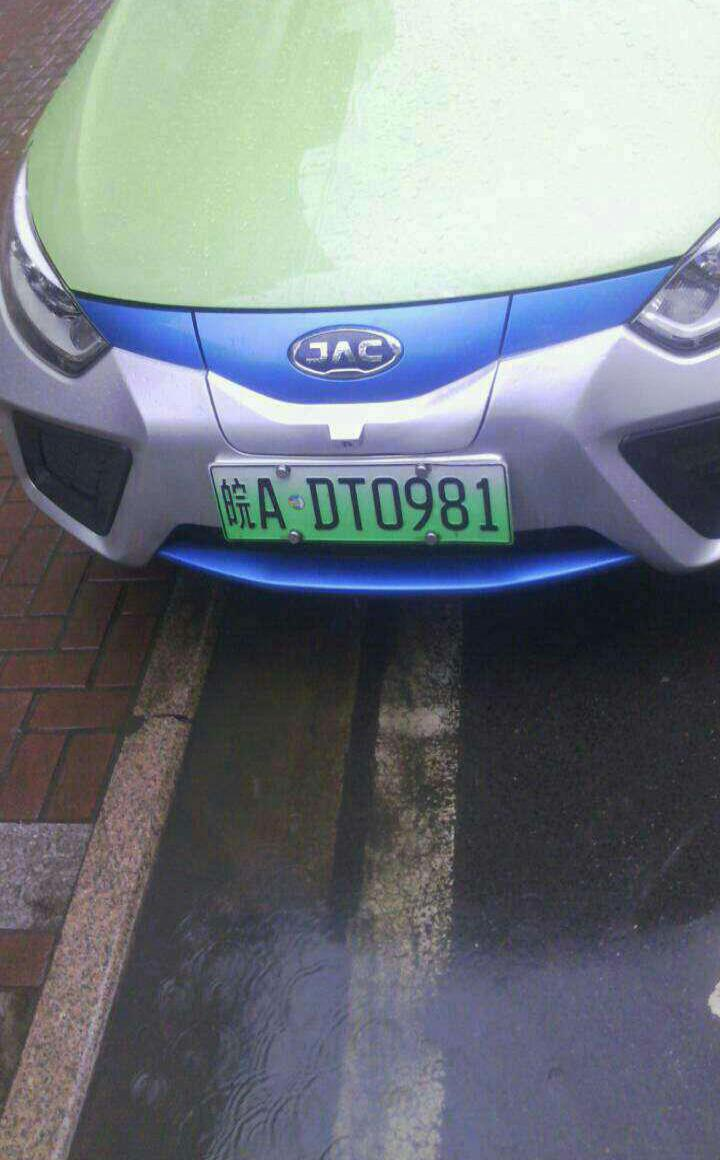car: (207, 457, 509, 551)
